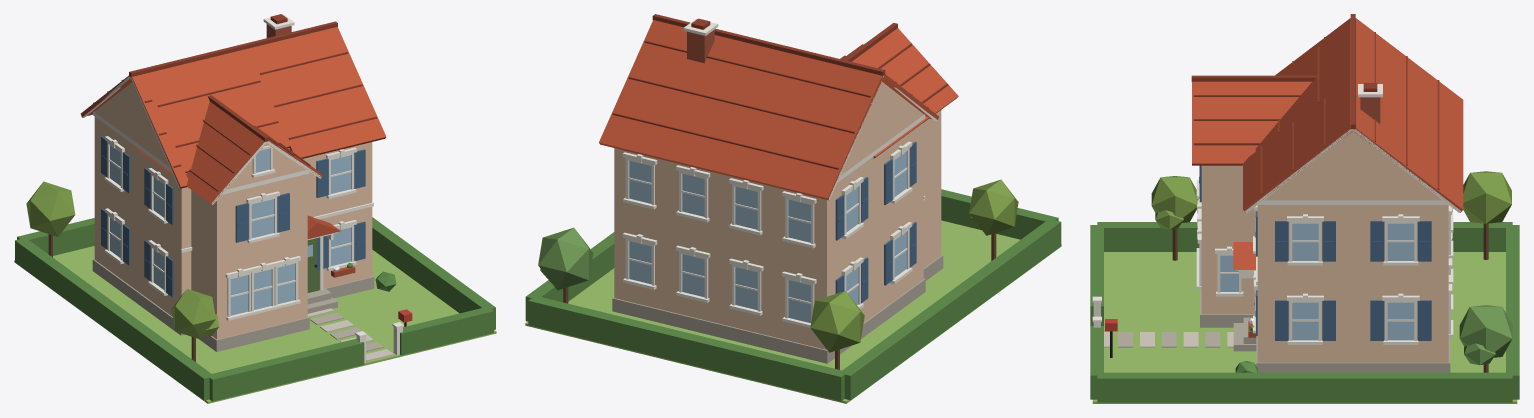
Rendered from MustakilEv_avrupa_3_2_Hafif.fbx.
3 views of the same model, side by side, from view 1: azimuth 30°, elevation 25°; view 2: azimuth 150°, elevation 25°; view 3: azimuth 270°, elevation 25° (orthographic). The views are drawn at different scales.
Visible parts, largest first — view 1: MustakilEv_avrupa_3_2_Hafif; view 2: MustakilEv_avrupa_3_2_Hafif; view 3: MustakilEv_avrupa_3_2_Hafif.
Part boxes in pixels (x1,y1,x2,y2): MustakilEv_avrupa_3_2_Hafif: [14, 14, 496, 403]; MustakilEv_avrupa_3_2_Hafif: [525, 14, 1061, 403]; MustakilEv_avrupa_3_2_Hafif: [1090, 14, 1519, 403].
Size of the model in its own units: 11.85 by 9.52 by 13.73.
